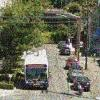buses: (22, 47, 50, 90)
